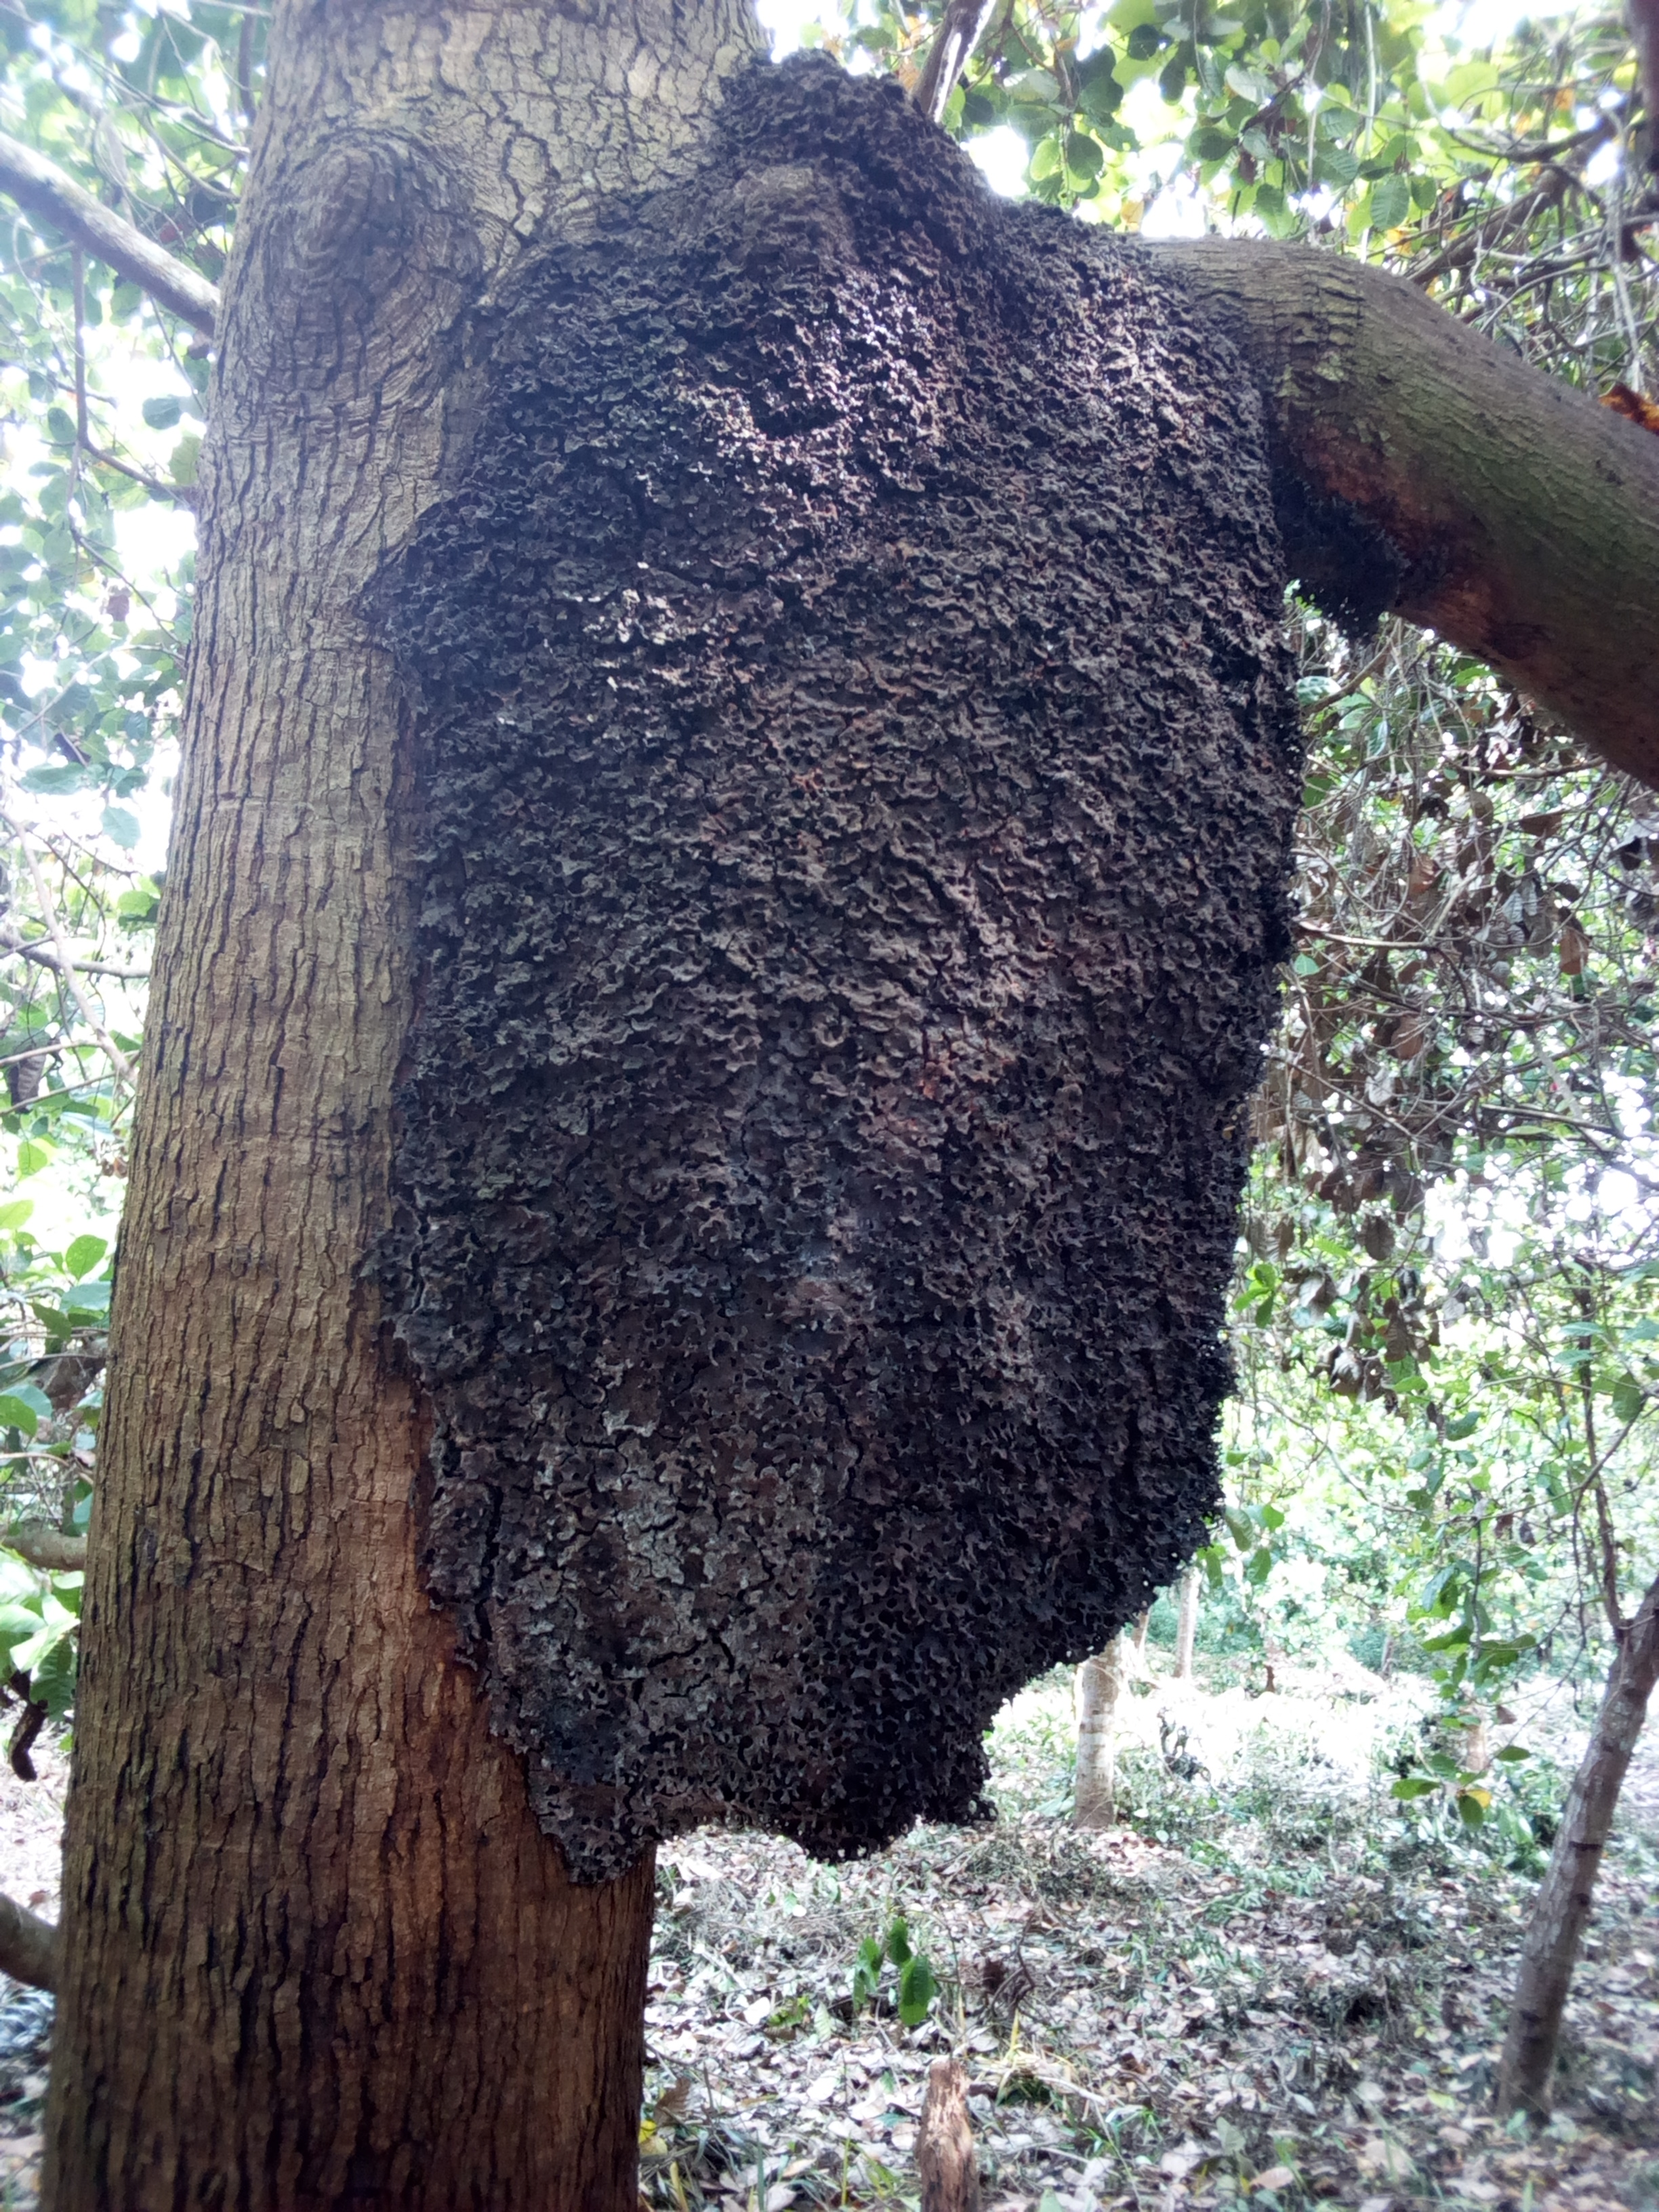Termites: (423, 138, 1195, 1855)
